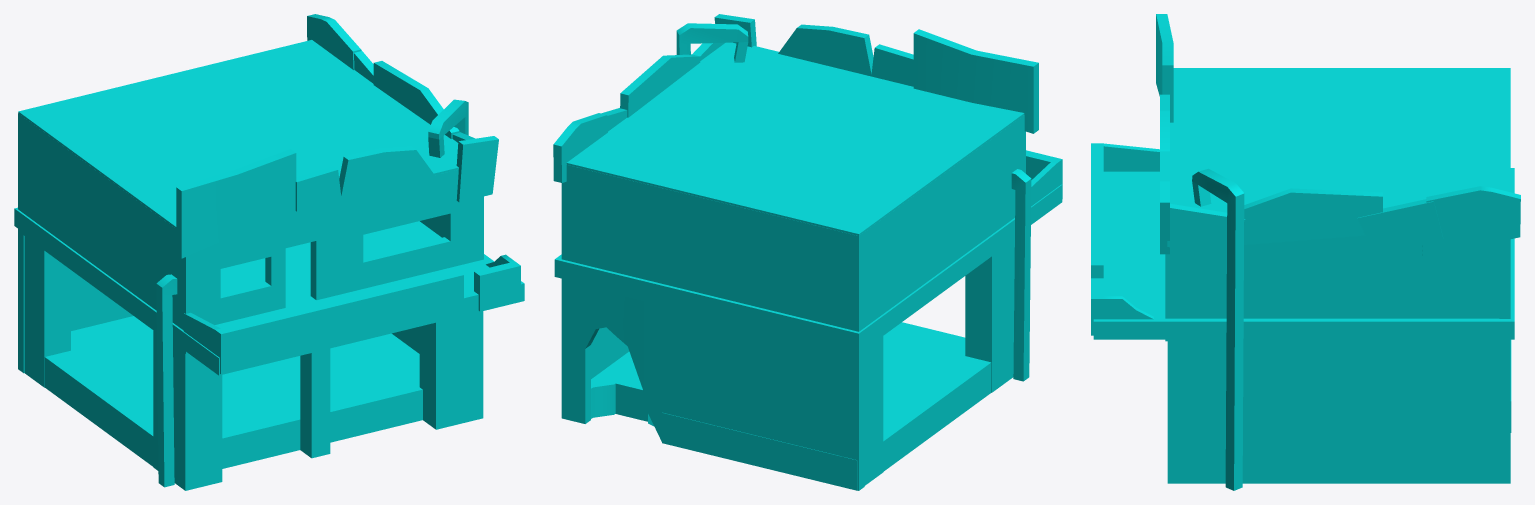
File: SM_Bld_Garage_01_Collision.fbx
3 renders of one model, left to right at view 1: azimuth 30°, elevation 25°; view 2: azimuth 150°, elevation 25°; view 3: azimuth 270°, elevation 25°, orthographic. The views are drawn at different scales.
Parts seen in each view (by area): view 1: SM_Bld_Garage_01_Collision; view 2: SM_Bld_Garage_01_Collision; view 3: SM_Bld_Garage_01_Collision.
Boxes of the visible parts, x1,y1,x2,y2 form: SM_Bld_Garage_01_Collision: [14, 14, 524, 490]; SM_Bld_Garage_01_Collision: [553, 14, 1062, 490]; SM_Bld_Garage_01_Collision: [1091, 14, 1520, 490].
Size of the model in its own units: 1171 by 1059 by 1277.
